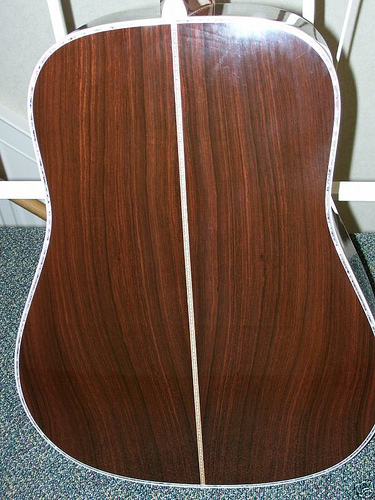guitar: (11, 1, 375, 489)
